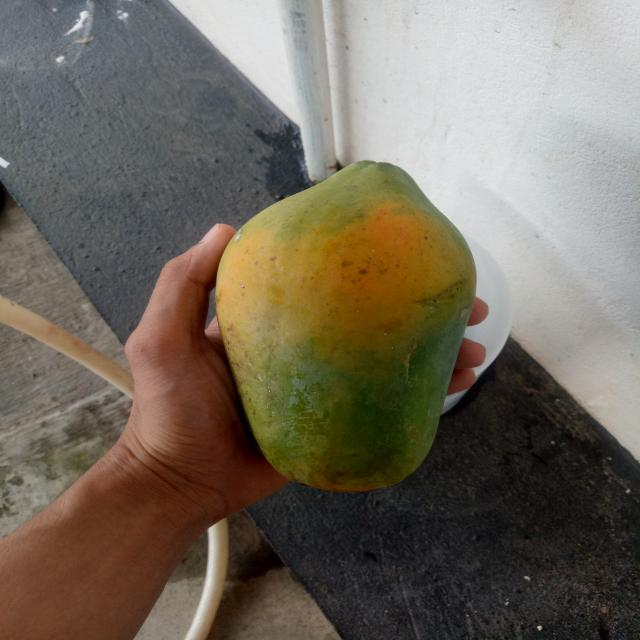Pepaya rippen: (205, 151, 482, 494)
